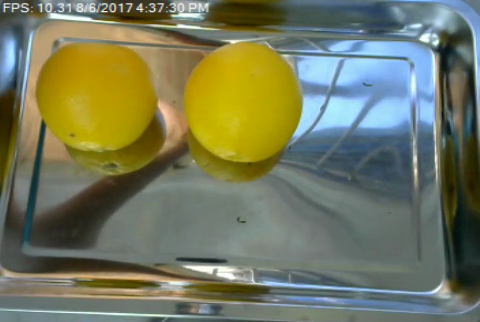Orange: (181, 43, 302, 164), (34, 43, 155, 153)
